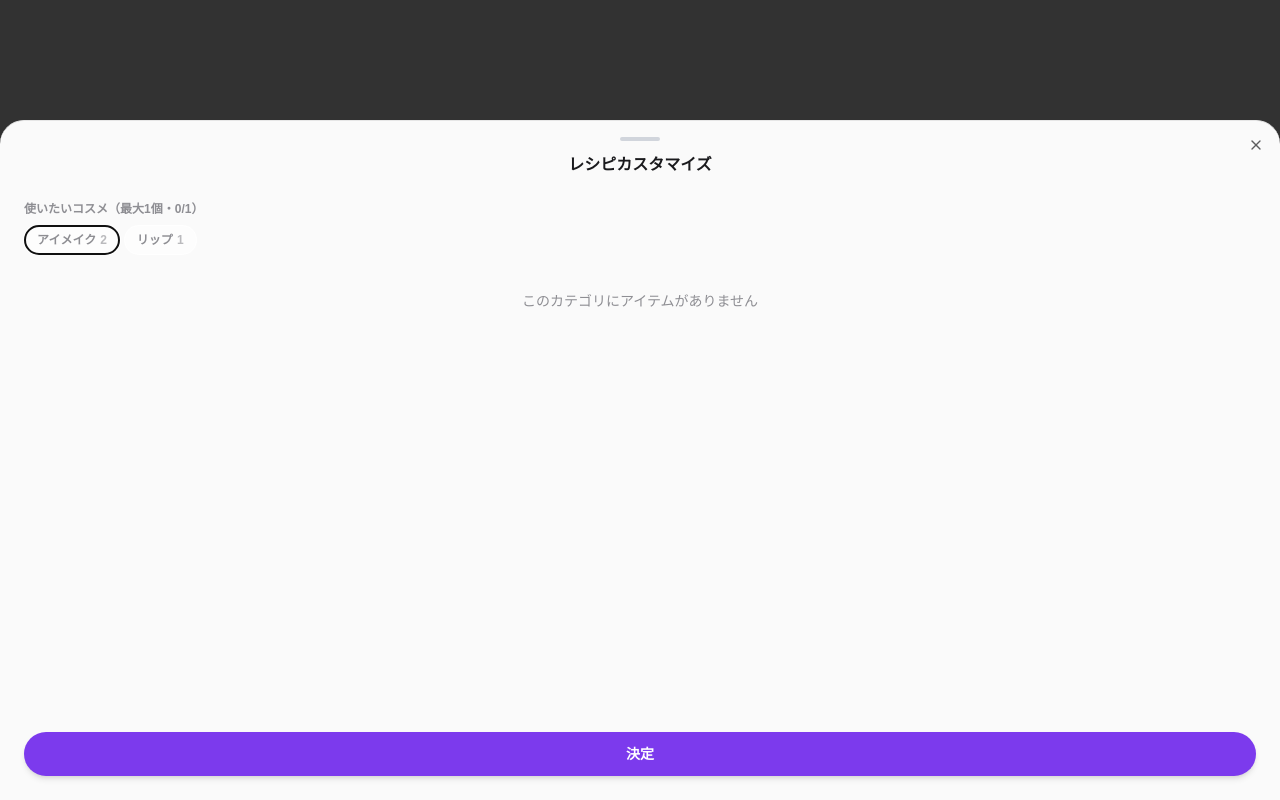
Test: CosmePickerSheet › enforces max selection limit
Click the button "アイメイク2" at (72, 240), box [24,225,120,255]
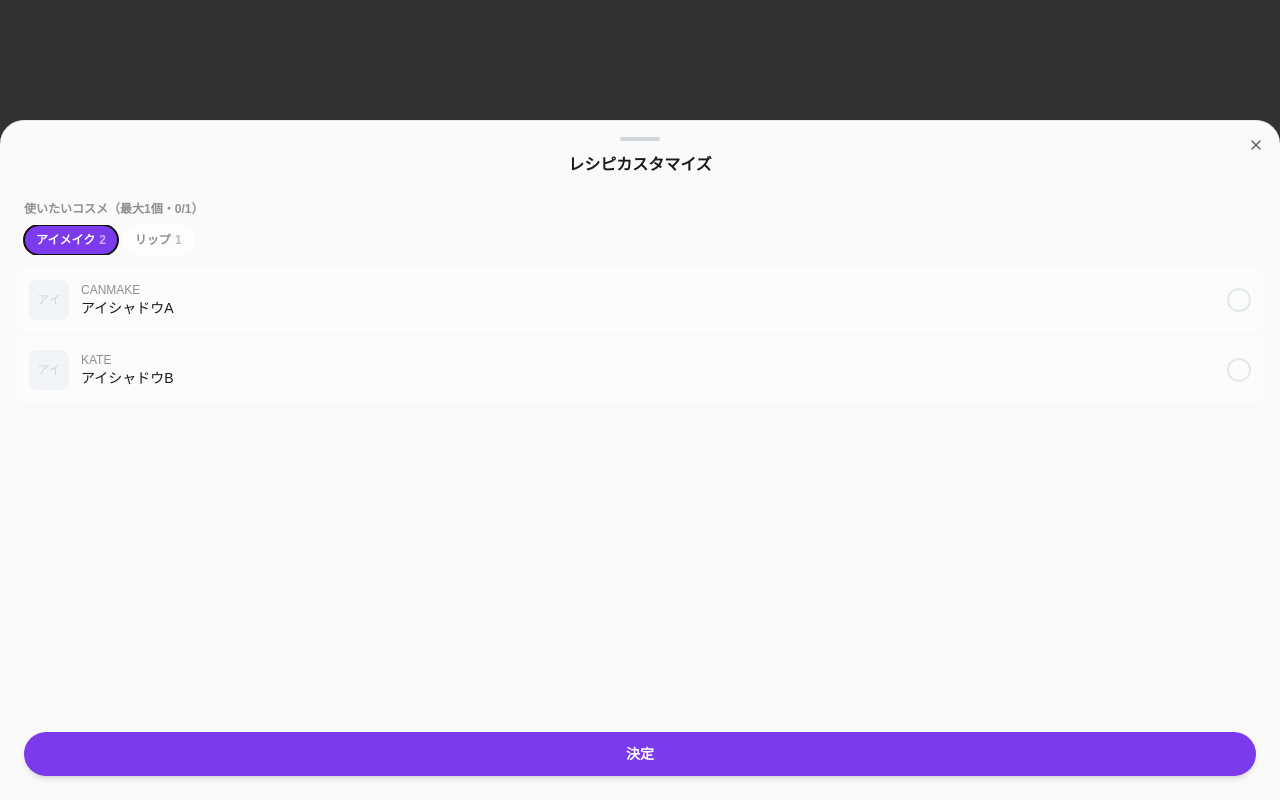
// Select first item
Click the text "アイシャドウA" at (127, 308), box [81,300,174,316]
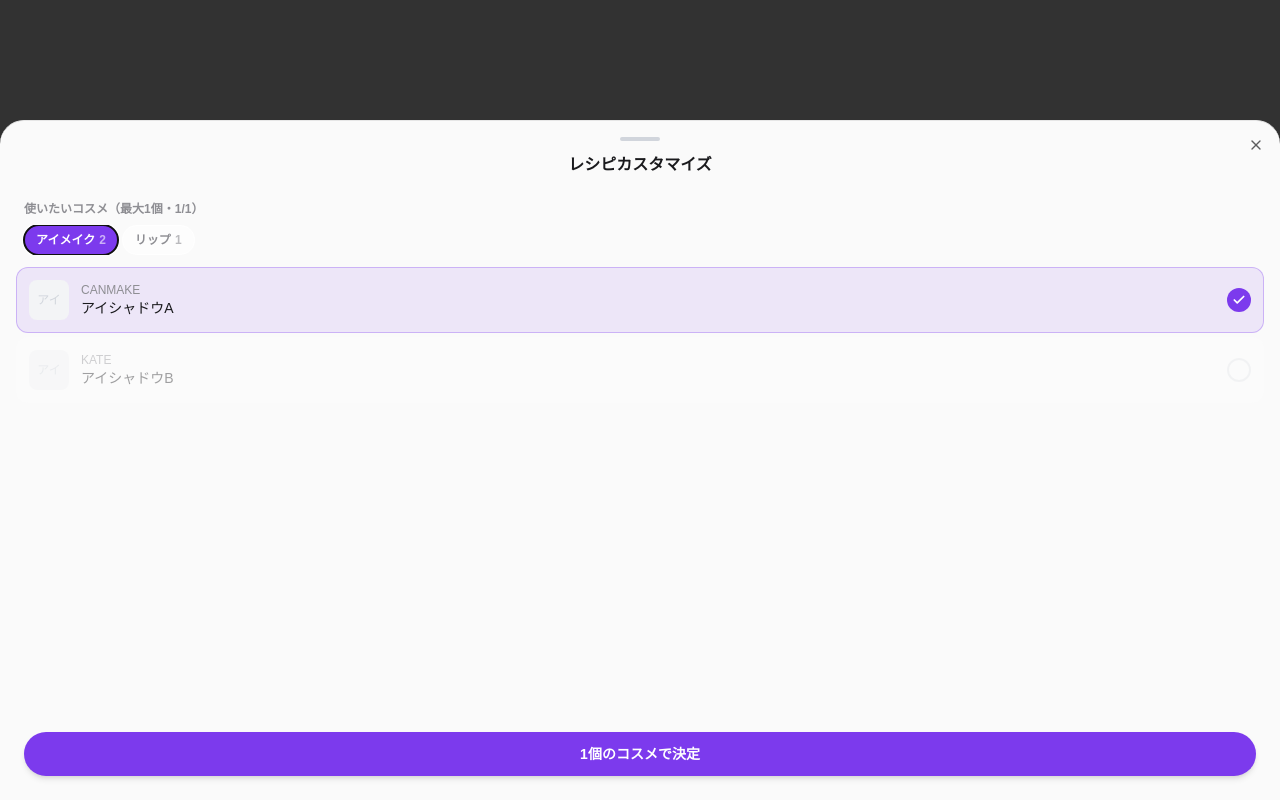
Result: the heading "使いたいコスメ（最大1個・1/1）" is shown at [24,202,204,216]
Result: the button "アイ KATE アイシャドウB" is disabled at [16,337,1264,403]
